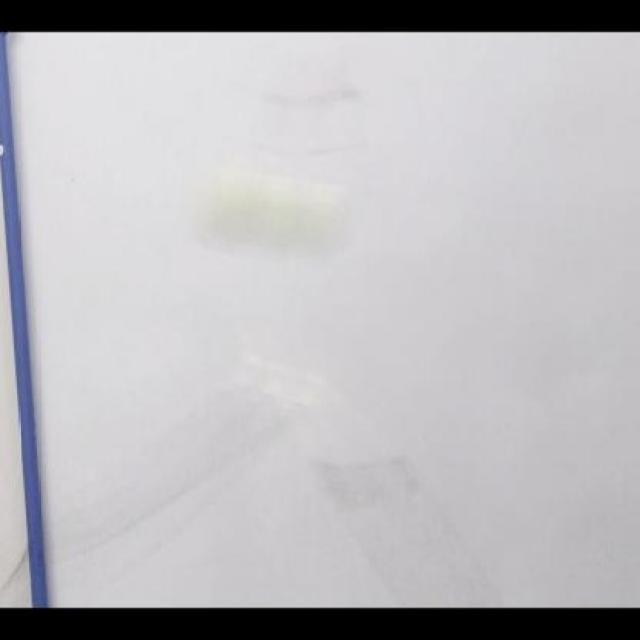baseball: (196, 168, 364, 254)
